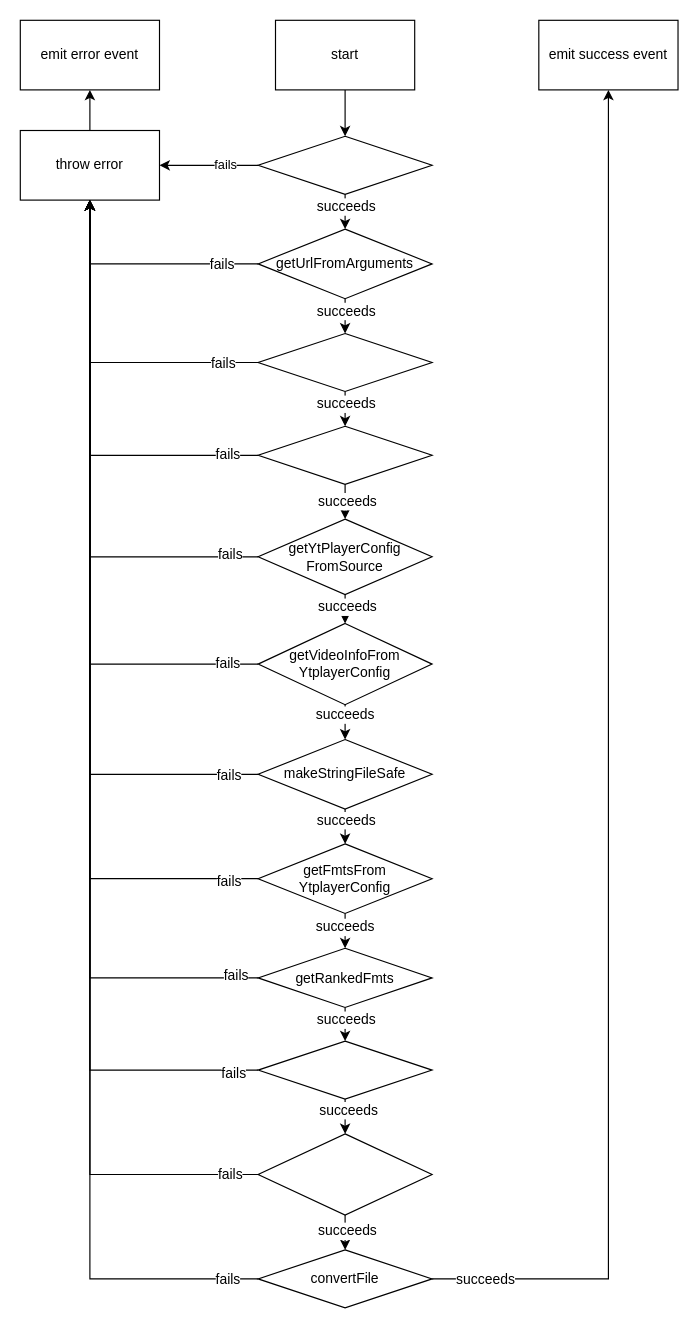
Image size: 698x1337. Some labels were removed from this diagram. Here are the shapes that lost their labels. From the top down, the centre of each, then its label:
At (x=344, y=164): "validateArguments".
At (x=344, y=362): "getSourceFromUrl".
At (x=344, y=454): "validateSource".
At (x=344, y=1069): "getWorkingUrl".
At (x=344, y=1174): "streamFileToTempDir".
